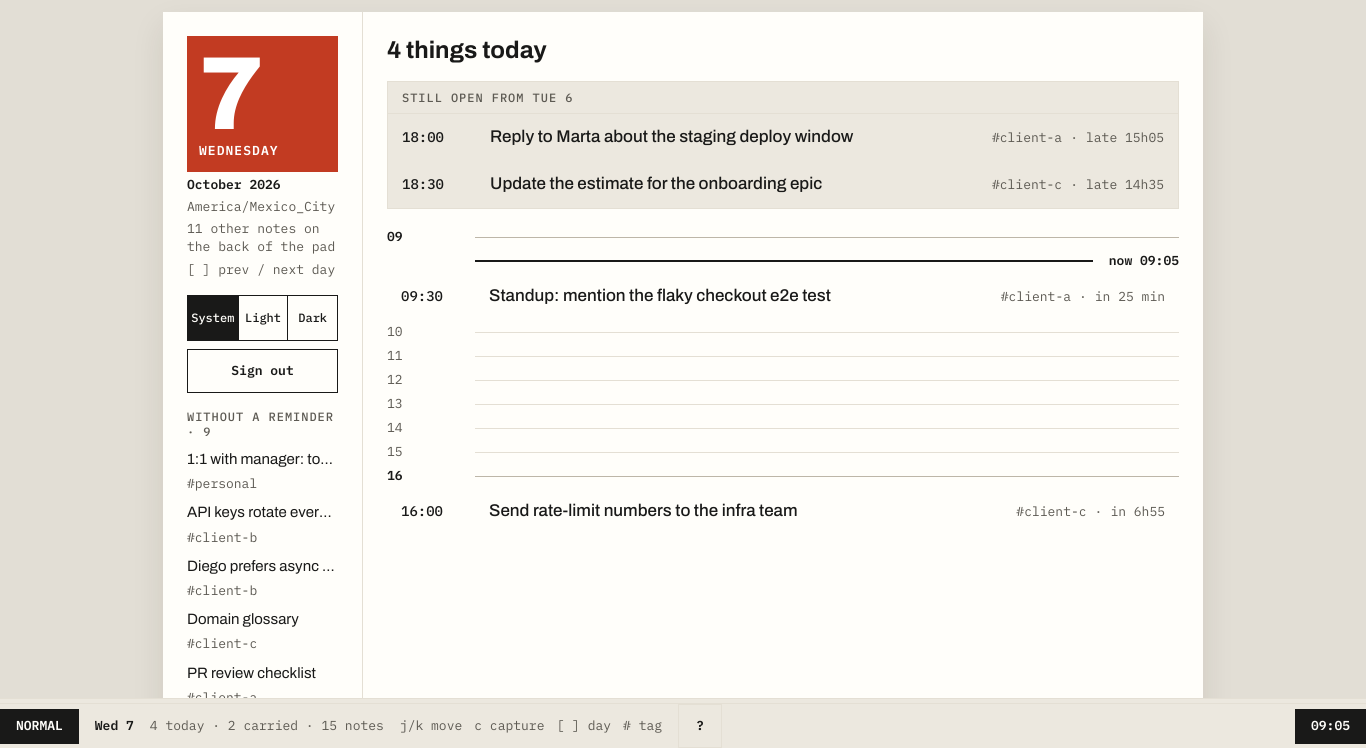
Test: capture from the Today page › C14: "Export format questions #client-b": new note first, 10, "+ 2 more", equal after settling
Expected: the heading "4 things today" is shown, [387, 37, 547, 63]
Type keys "c"
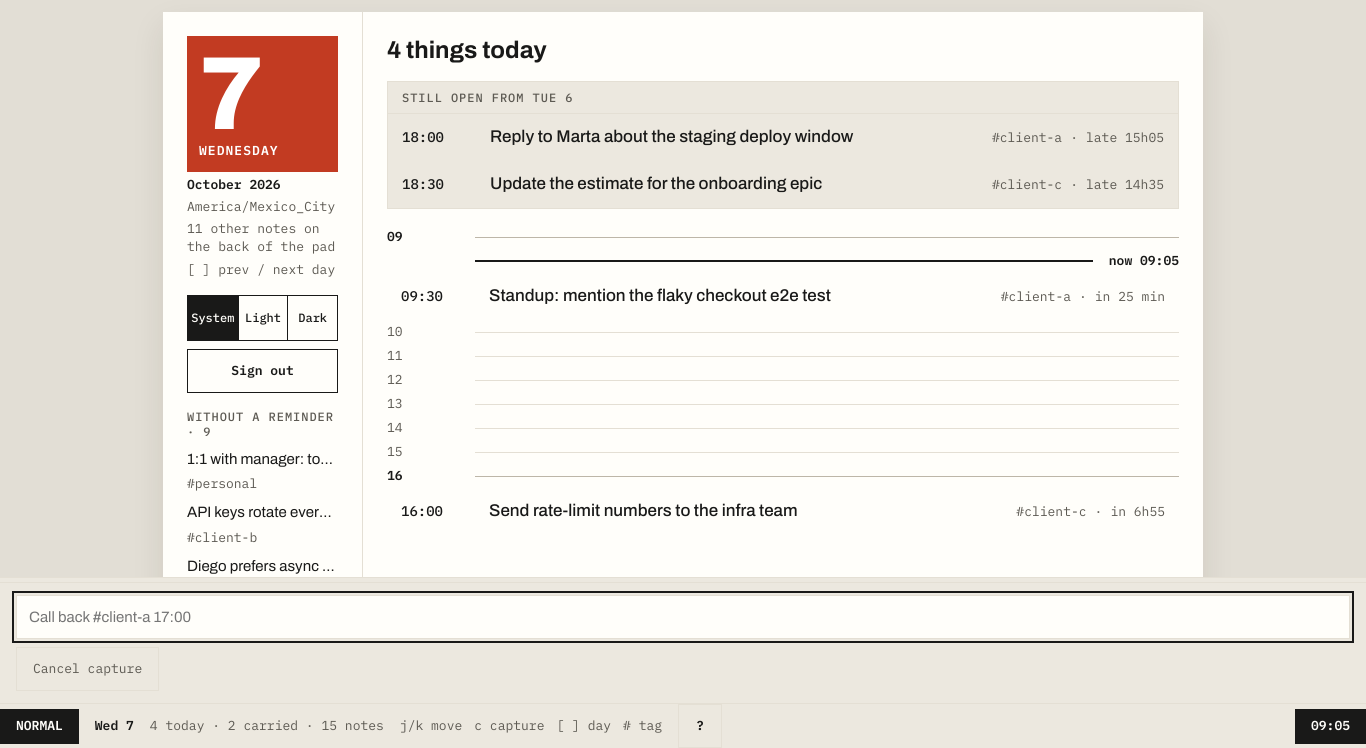
Type "Export format questions #client-b" into the field named "Capture a note" at (683, 617), box [16, 595, 1350, 639]
Then press Enter
(page scrolled)
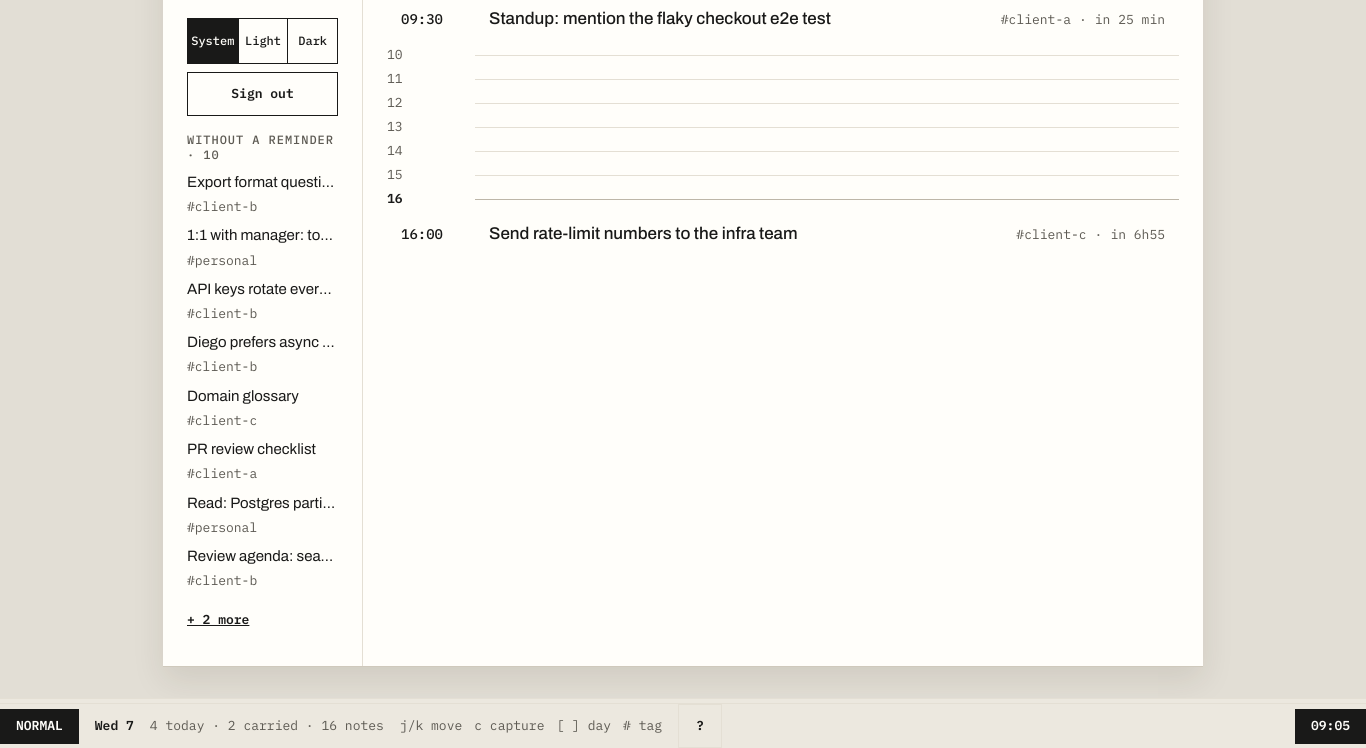
Result: the text "Export format questions" is shown at [187, 171, 338, 194]
